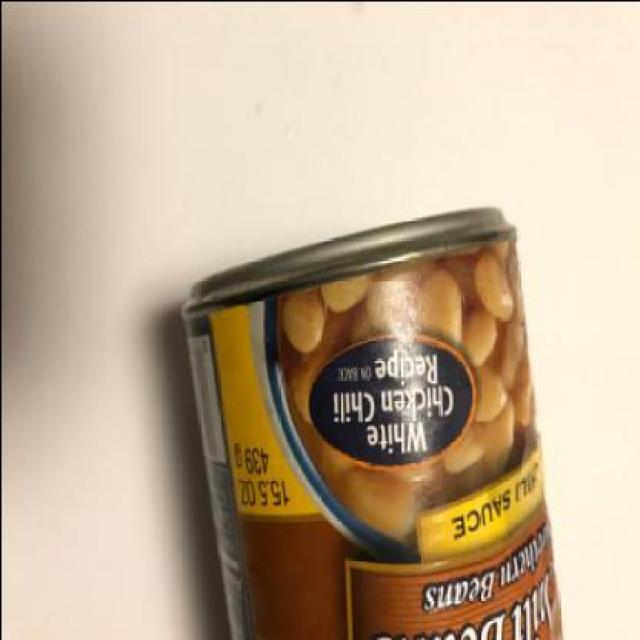METAL: (180, 208, 565, 640)
